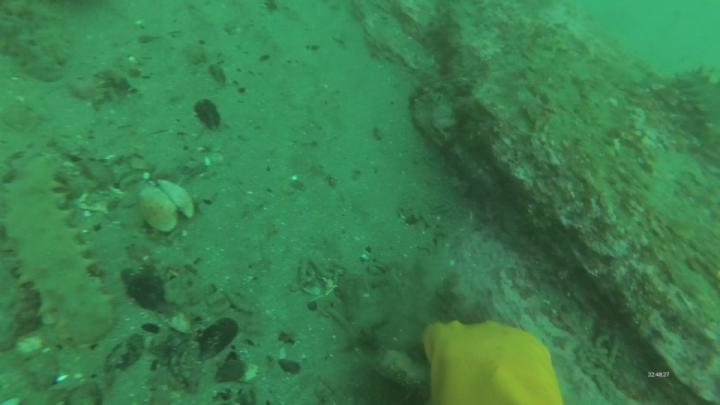holothurian: (1, 148, 122, 351), (665, 64, 720, 163)
scallop: (138, 181, 193, 235)
